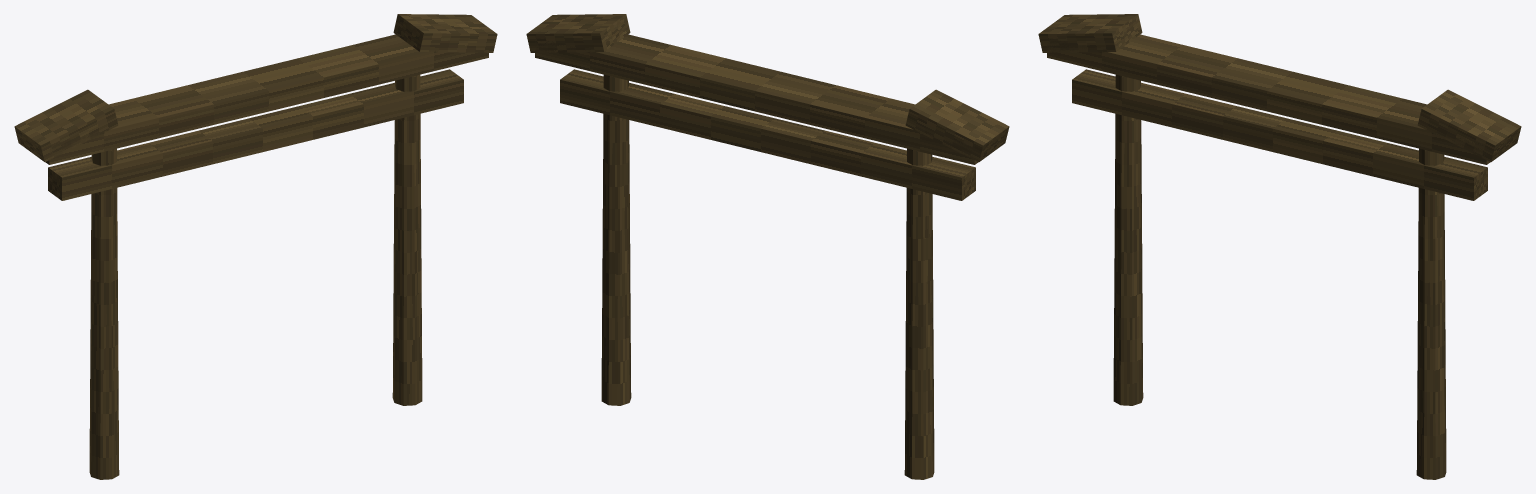
Rendered from gate_42.glb.
3 views of the same model, side by side, from view 1: azimuth 30°, elevation 25°; view 2: azimuth 150°, elevation 25°; view 3: azimuth 330°, elevation 25° (orthographic).
Parts seen in each view (by area): view 1: Roof, Lintel, Pillar.001, Pillar, RaisedEave, RaisedEave.001; view 2: Roof, Lintel, Pillar.001, Pillar, RaisedEave, RaisedEave.001; view 3: Roof, Lintel, Pillar, Pillar.001, RaisedEave.001, RaisedEave.
Part boxes in pixels (x1,y1,x2,y2): Roof: [45, 34, 488, 164]; Lintel: [48, 69, 463, 200]; Pillar.001: [392, 74, 422, 405]; Pillar: [89, 148, 119, 479]; RaisedEave: [14, 89, 118, 161]; RaisedEave.001: [393, 14, 497, 52]; Roof: [535, 34, 978, 164]; Lintel: [560, 69, 975, 200]; Pillar.001: [601, 74, 631, 405]; Pillar: [904, 148, 934, 479]; RaisedEave: [905, 89, 1009, 161]; RaisedEave.001: [526, 14, 630, 52]; Roof: [1047, 34, 1490, 164]; Lintel: [1072, 69, 1487, 200]; Pillar: [1113, 74, 1143, 405]; Pillar.001: [1416, 148, 1446, 479]; RaisedEave.001: [1417, 89, 1521, 161]; RaisedEave: [1038, 14, 1142, 52].
Size of the model in its own units: 6.53 by 5.13 by 0.65.
Materials: 1 (1 with a texture image).
